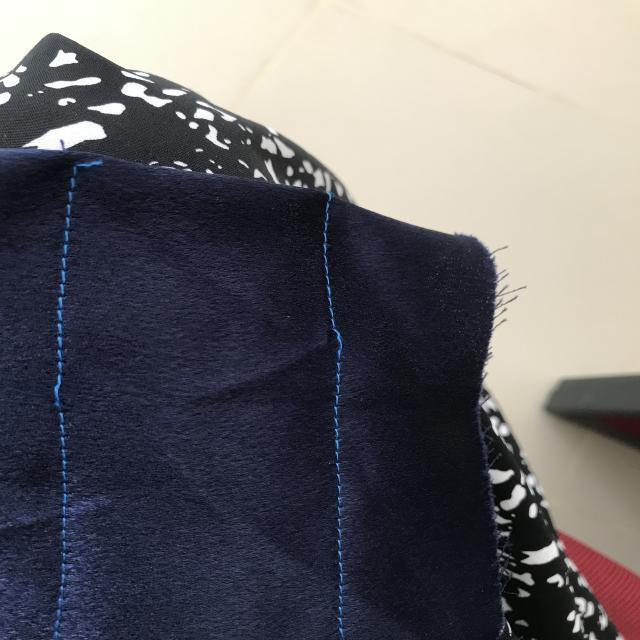good: (322, 396, 356, 548), (57, 221, 75, 329), (52, 442, 77, 504), (319, 222, 336, 296)
skip: (45, 367, 92, 420), (310, 321, 359, 369)
